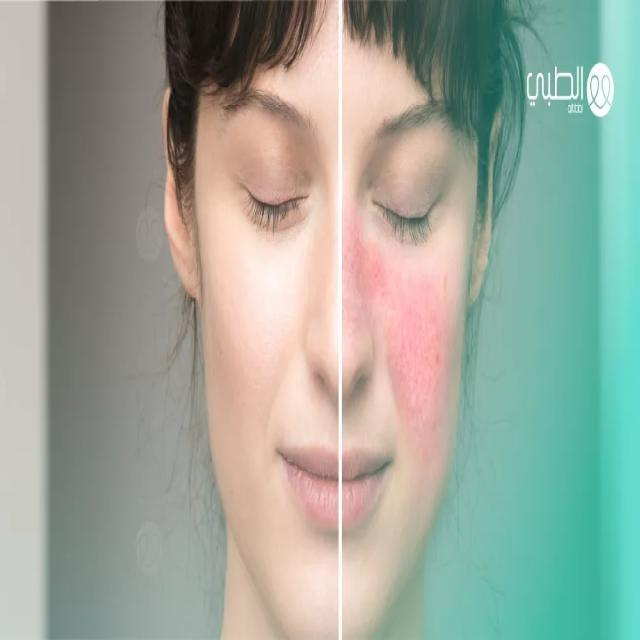Rosacea: (344, 225, 454, 500)
